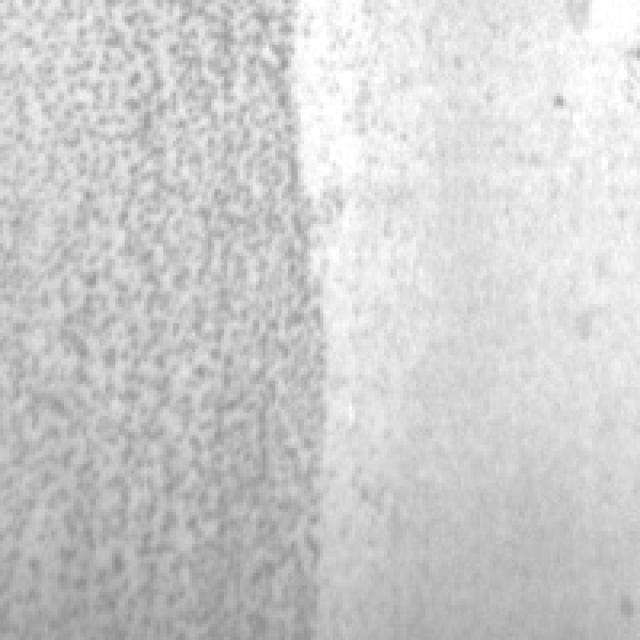pitted_surface: (3, 0, 339, 634)
